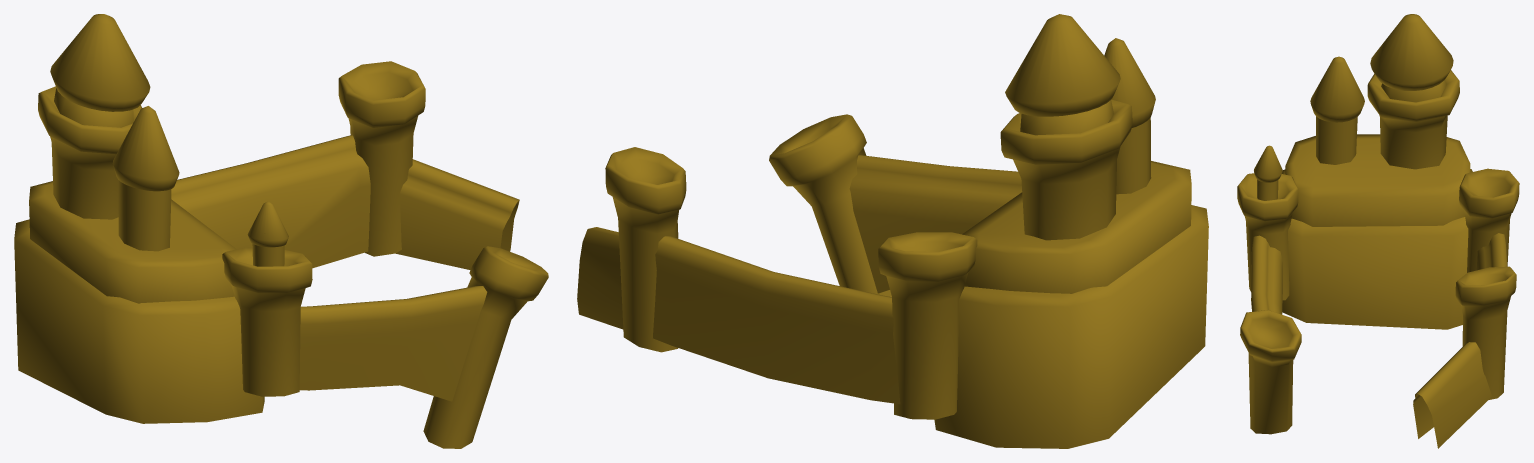
The model's file is SandCastle001.FBX.
3 views of the same model, side by side, from view 1: azimuth 30°, elevation 25°; view 2: azimuth 150°, elevation 25°; view 3: azimuth 270°, elevation 25° (orthographic). The views are drawn at different scales.
Visible parts, largest first — view 1: Box011; view 2: Box011; view 3: Box011.
Boxes of the visible parts, box(x1,y1,x2,y2) form: Box011: box(14, 14, 548, 448); Box011: box(577, 14, 1208, 448); Box011: box(1237, 14, 1519, 448).
Bounding box in the file's own units: 475 × 386 × 309.
